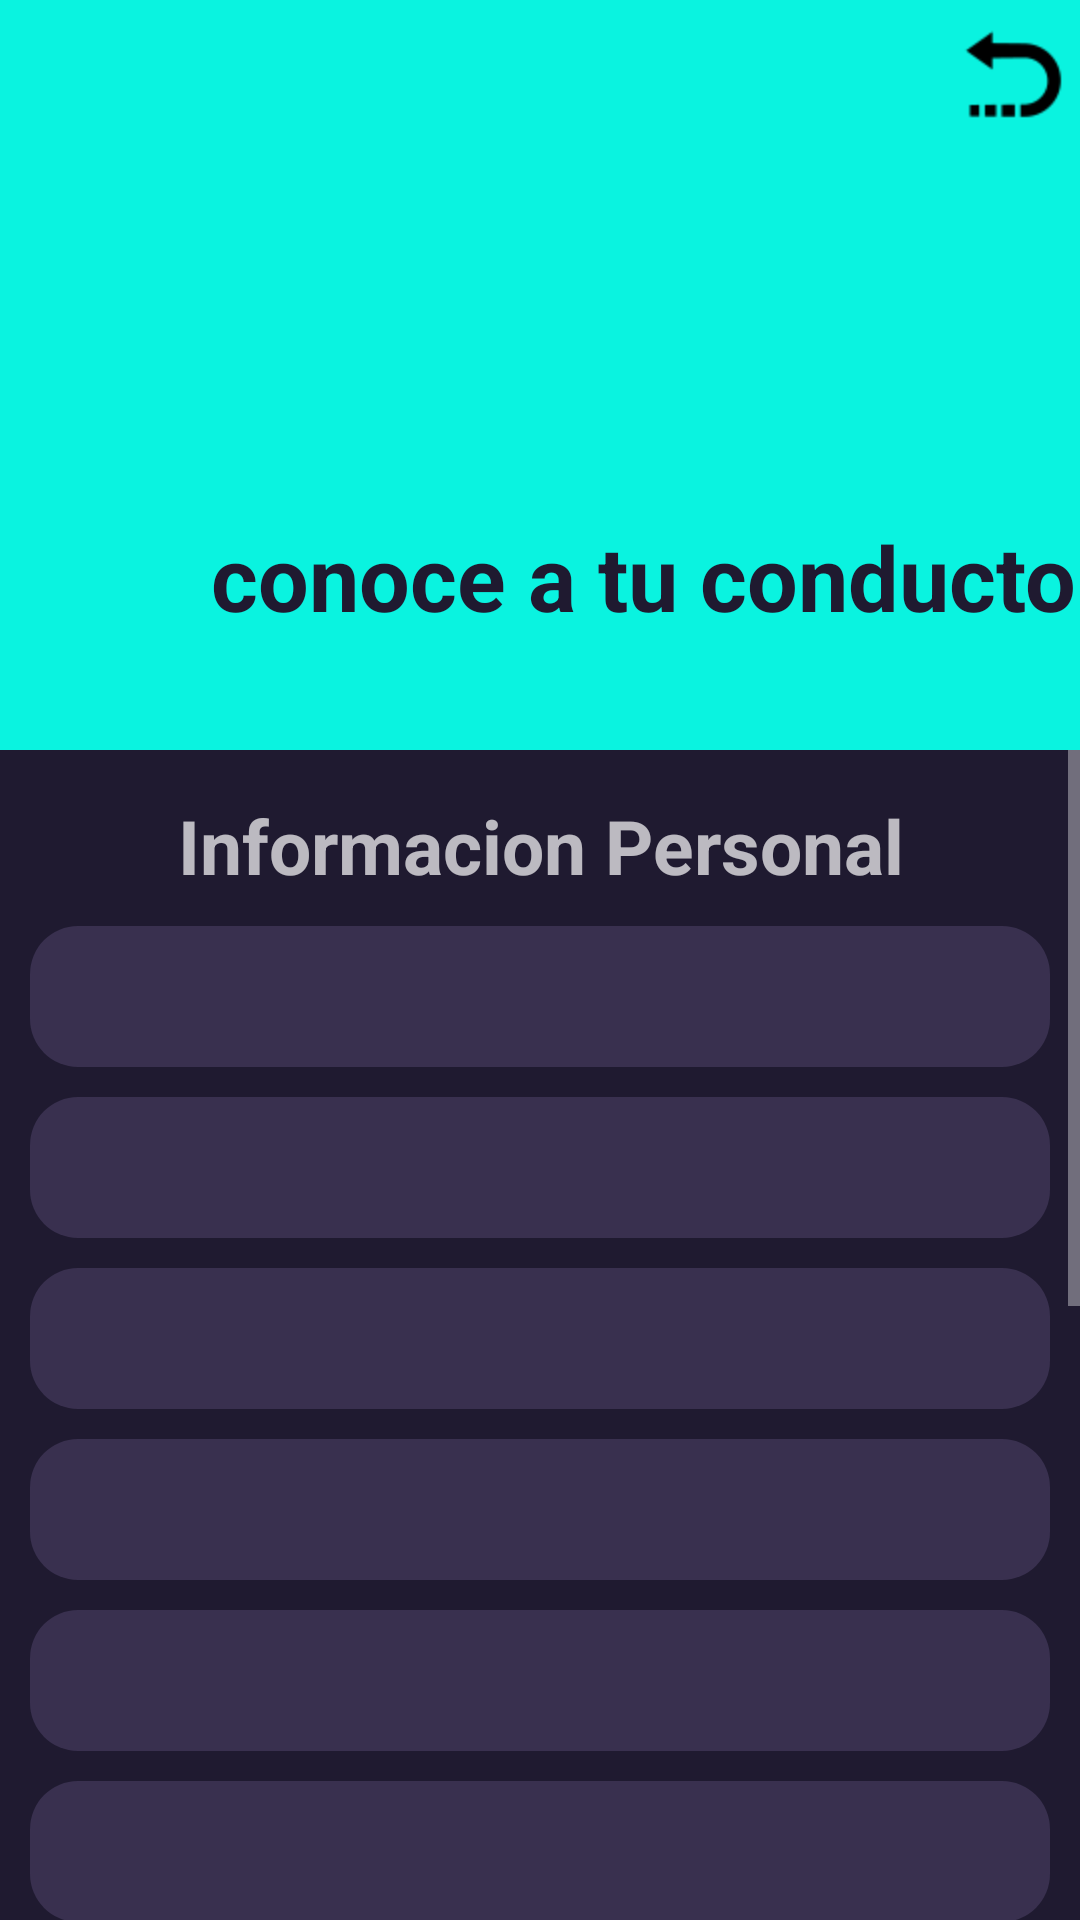

Icons on this 1080 × 1920 Android screen, each with its box as box(x1, y1, x2, y2):
regresar: box(966, 31, 1062, 118)
